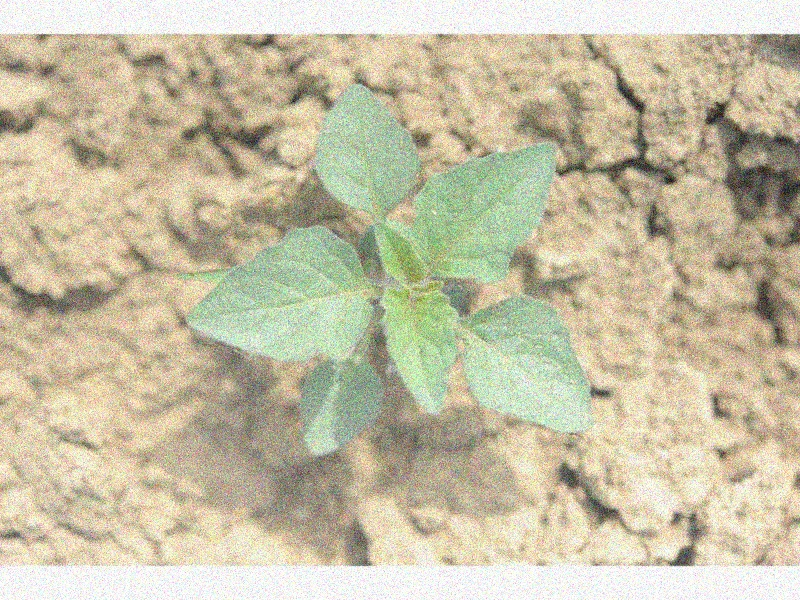nightshade: (185, 80, 592, 456)
